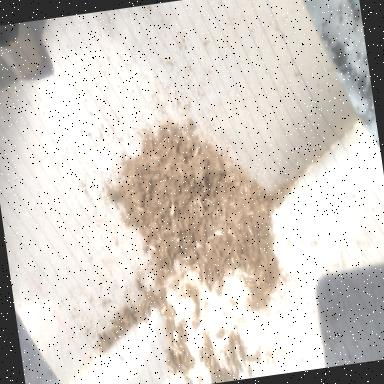pbw: (164, 245, 172, 263), (232, 213, 244, 224), (144, 128, 154, 141), (229, 328, 237, 344), (224, 246, 234, 258), (180, 329, 188, 344), (212, 278, 225, 287), (223, 349, 230, 365), (214, 202, 222, 216), (183, 374, 194, 384), (234, 250, 242, 263), (166, 303, 174, 316), (158, 304, 168, 314), (135, 205, 146, 214), (194, 260, 201, 274), (192, 144, 200, 156), (168, 203, 175, 216), (194, 240, 204, 249), (198, 210, 209, 218), (173, 226, 181, 237), (172, 338, 180, 349), (254, 350, 260, 364), (195, 197, 202, 209), (222, 270, 234, 277), (204, 242, 212, 252), (227, 228, 235, 238), (168, 264, 176, 274), (246, 364, 252, 377), (174, 235, 182, 244), (198, 349, 204, 361), (240, 274, 246, 286), (167, 364, 175, 373), (240, 252, 248, 260), (204, 197, 212, 205), (176, 348, 184, 356), (190, 314, 198, 322), (218, 180, 226, 188), (182, 255, 191, 262), (180, 362, 187, 371), (226, 174, 236, 180), (238, 184, 244, 194), (247, 226, 253, 236), (201, 254, 208, 262), (224, 176, 231, 184), (214, 229, 222, 236), (206, 234, 215, 240), (148, 243, 155, 250), (195, 206, 202, 213), (246, 208, 254, 214), (218, 215, 226, 221), (144, 184, 150, 192), (243, 184, 248, 192), (154, 155, 162, 160), (246, 282, 256, 286), (234, 179, 240, 185), (154, 238, 160, 244), (174, 136, 178, 142), (230, 172, 236, 176)
